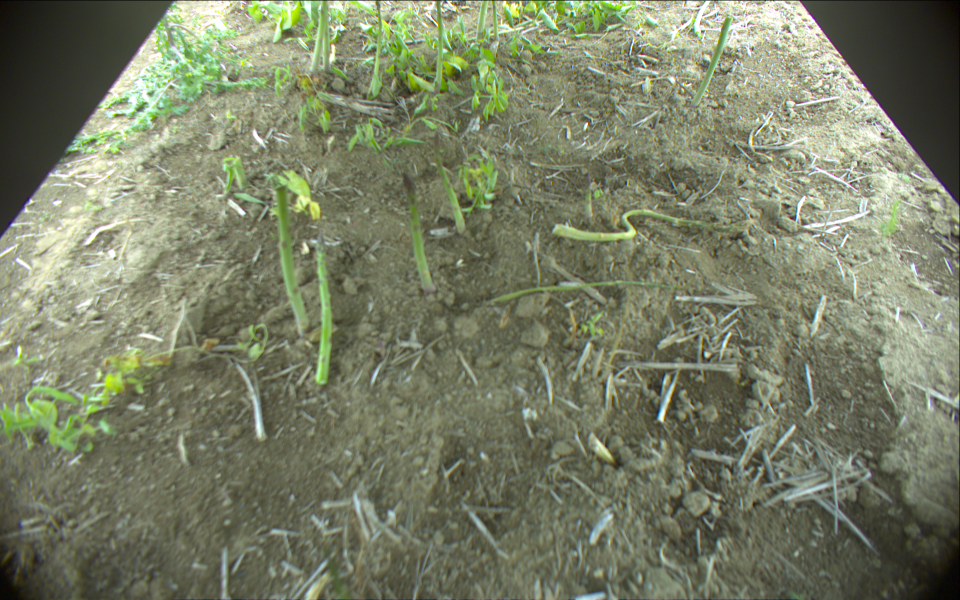aspa: (485, 280, 686, 308), (397, 168, 440, 298), (274, 182, 310, 337), (553, 208, 708, 242), (692, 17, 734, 108), (431, 130, 467, 232), (313, 232, 333, 384), (368, 1, 386, 97), (311, 1, 324, 78), (320, 1, 333, 71), (433, 1, 442, 89), (473, 1, 488, 45), (695, 1, 710, 37), (489, 1, 499, 46)
